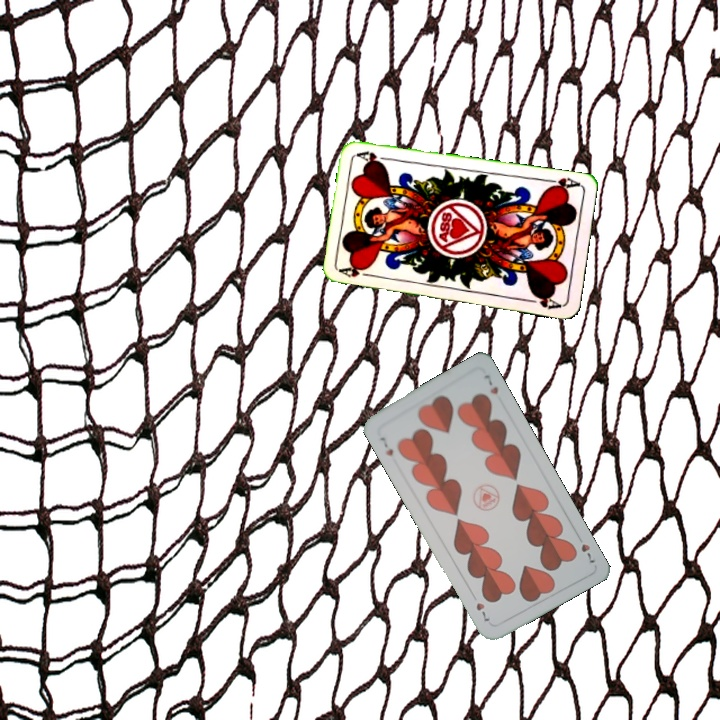H7: (572, 530, 598, 567), (376, 433, 396, 458)
HA: (541, 174, 582, 194), (337, 264, 378, 280)
